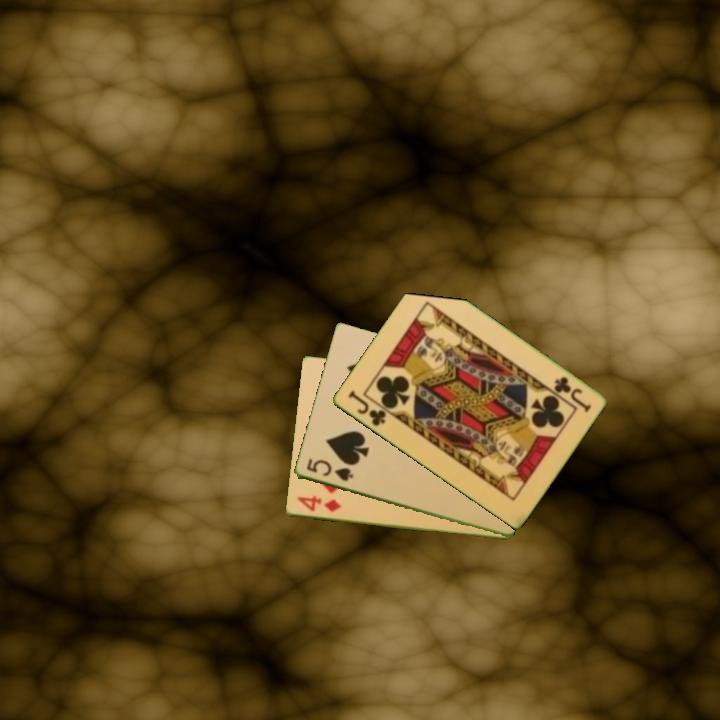4d: (293, 493, 344, 515)
5s: (303, 455, 356, 484)
Jc: (344, 387, 389, 429), (550, 373, 594, 415)
